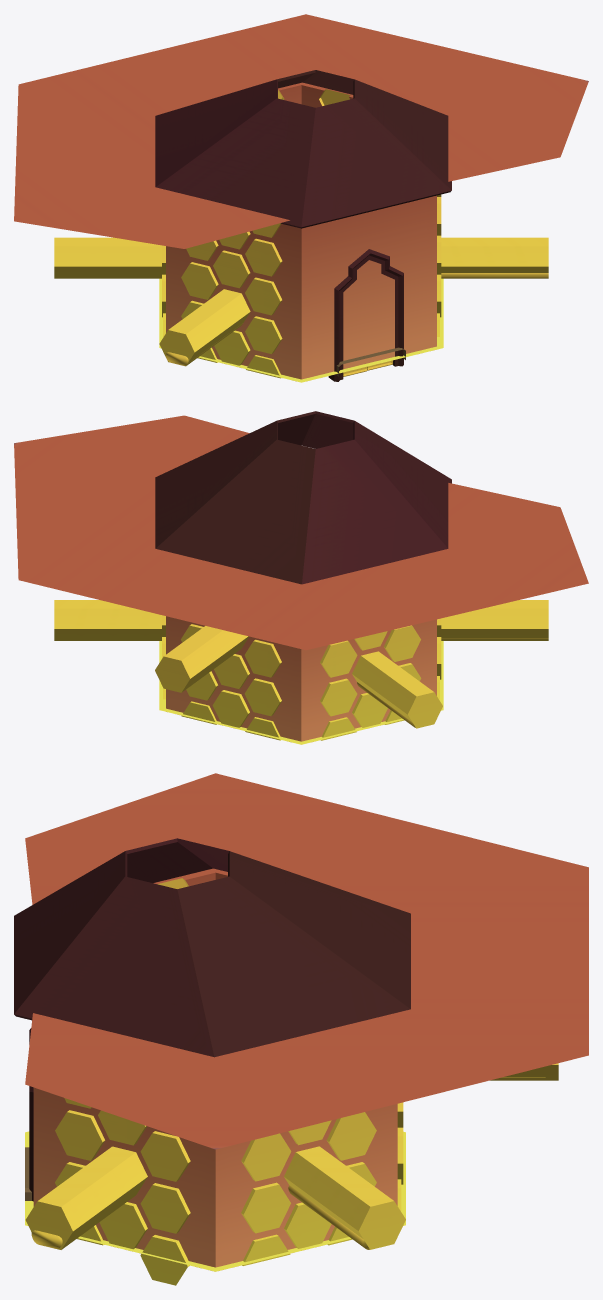
Rendered from Queens_Chamber.fbx.
The picture shows the model from 3 angles, top to bottom: view 1: azimuth 30°, elevation 25°; view 2: azimuth 150°, elevation 25°; view 3: azimuth 270°, elevation 25°; orthographic projection. The views are drawn at different scales.
Parts seen in each view (by area): view 1: room_walls, Chamber_Roof, Chamber_Door, room_honeypool, HoneyFall.003; view 2: room_walls, Chamber_Roof, room_honeypool; view 3: room_walls, Chamber_Roof, room_honeypool, HoneyFall.002.
Boxes of the visible parts, x1,y1,x2,y2 form: room_walls: (14, 14, 588, 379); Chamber_Roof: (155, 70, 451, 228); Chamber_Door: (328, 249, 403, 381); room_honeypool: (159, 278, 443, 382); HoneyFall.003: (441, 273, 548, 278); room_walls: (14, 415, 588, 741); Chamber_Roof: (155, 411, 451, 584); room_honeypool: (159, 641, 443, 744); room_walls: (25, 773, 588, 1285); Chamber_Roof: (14, 838, 410, 1057); room_honeypool: (25, 1131, 405, 1271); HoneyFall.002: (288, 1185, 369, 1249).
Size of the model in its own units: 4755 by 2004 by 3070.
